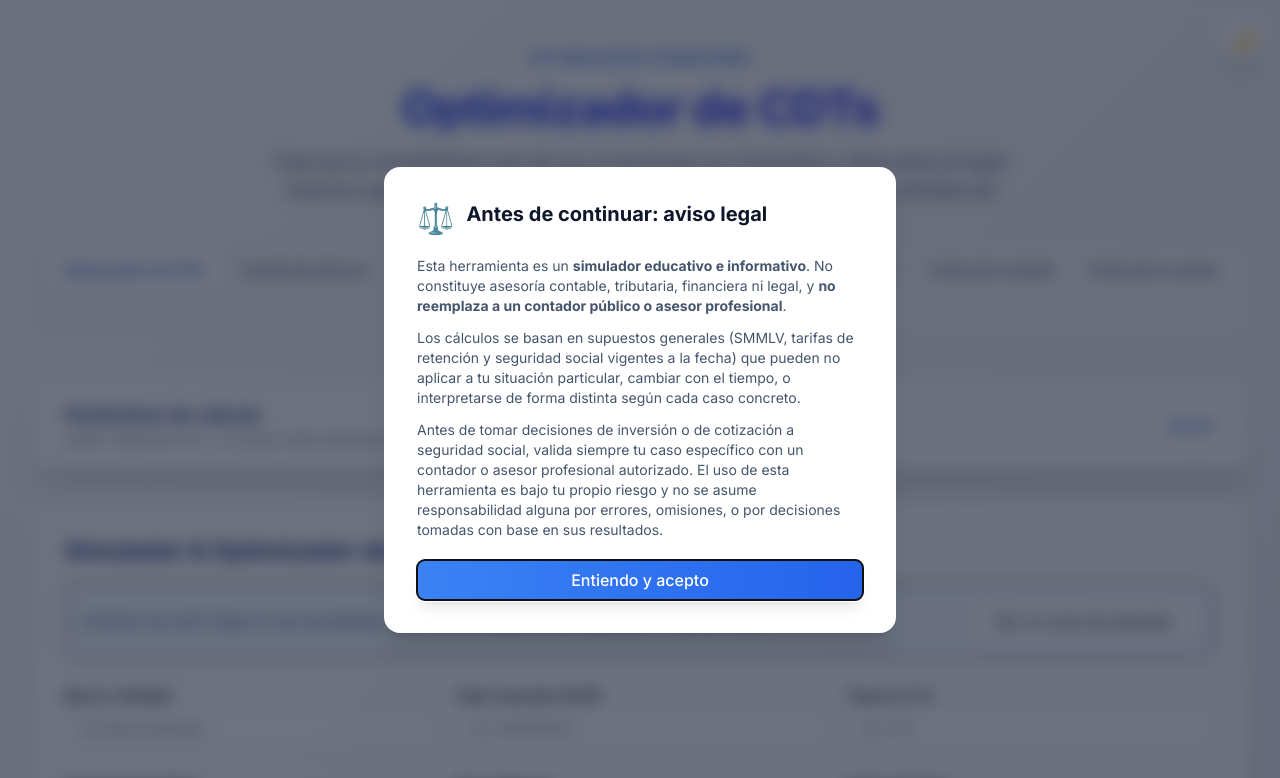
Test: App › cambiar a la pestaña "4×1000" muestra esa calculadora
The width and height of the screenshot is (1280, 778).
Click the button "Entiendo y acepto" at (640, 580), box [417, 560, 863, 600]
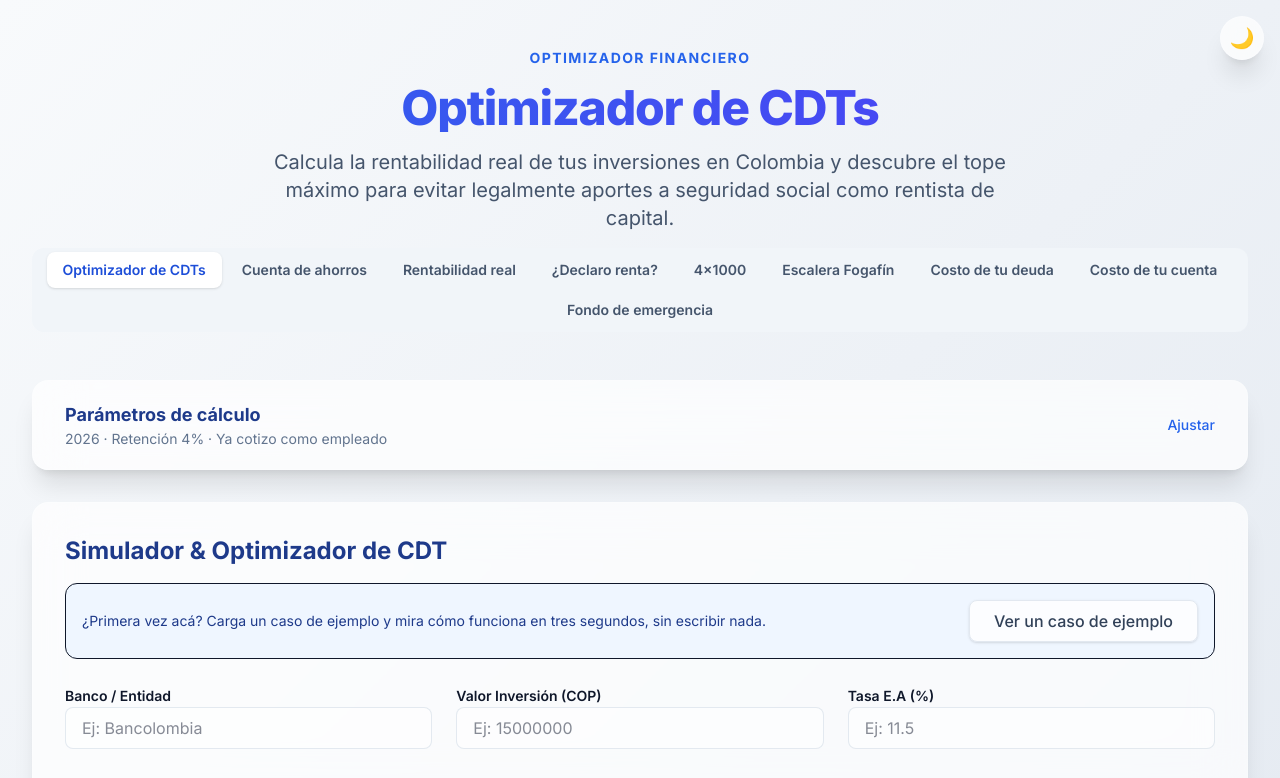
Click the link "4×1000" at (720, 270), box [694, 261, 746, 278]
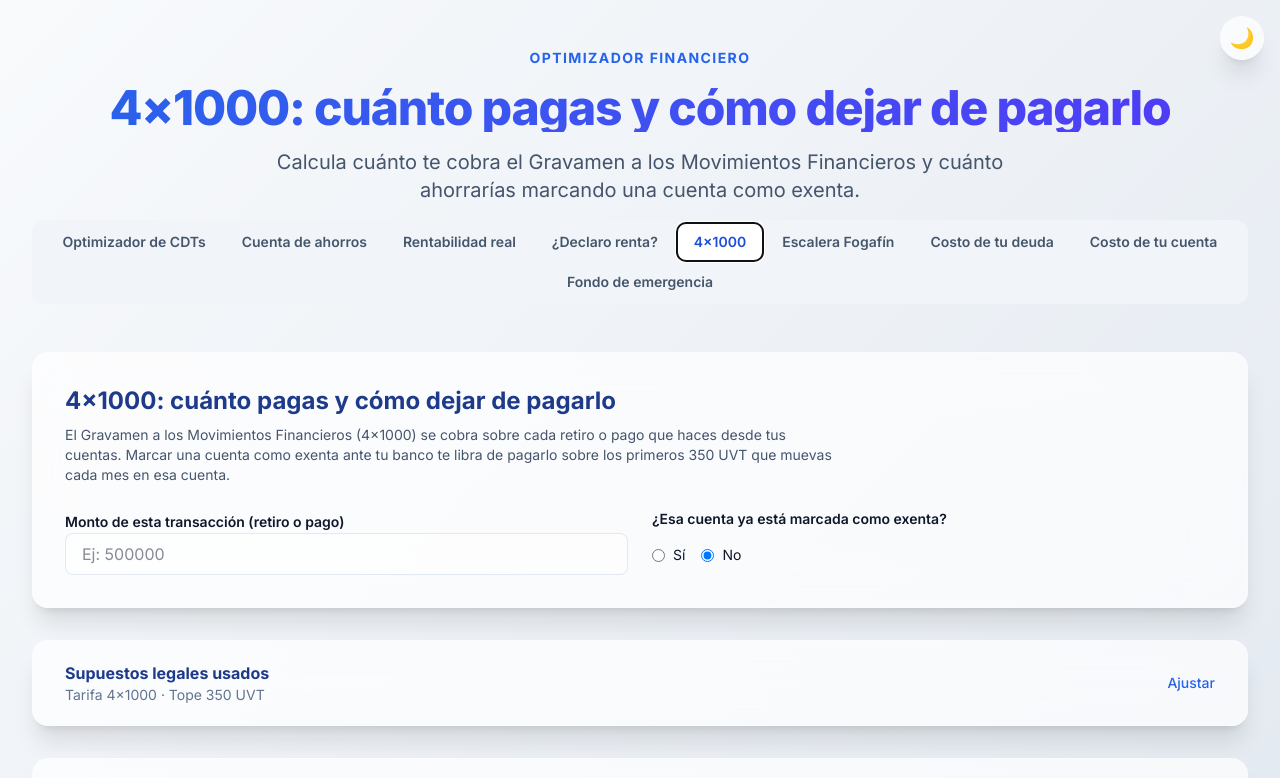
Expected: the heading "4×1000: cuánto pagas y cómo dejar de pagarlo" below "Optimizador Financiero" is shown, [32, 84, 1248, 132]
